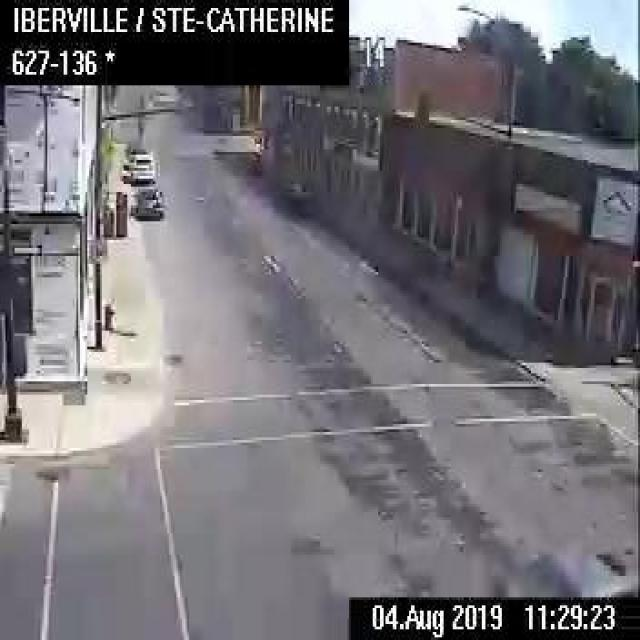vehicle: (128, 182, 166, 222), (120, 148, 155, 182), (284, 178, 316, 212)
